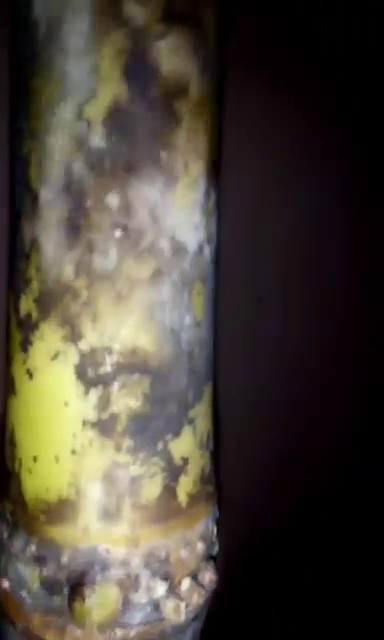cane eye: (58, 577, 128, 633)
